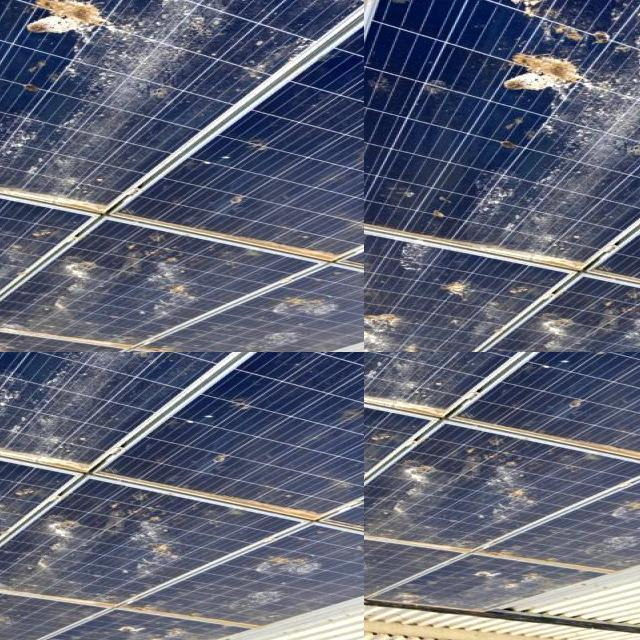soiled: (2, 0, 362, 351), (2, 355, 363, 639), (367, 0, 640, 351), (368, 354, 640, 617)
